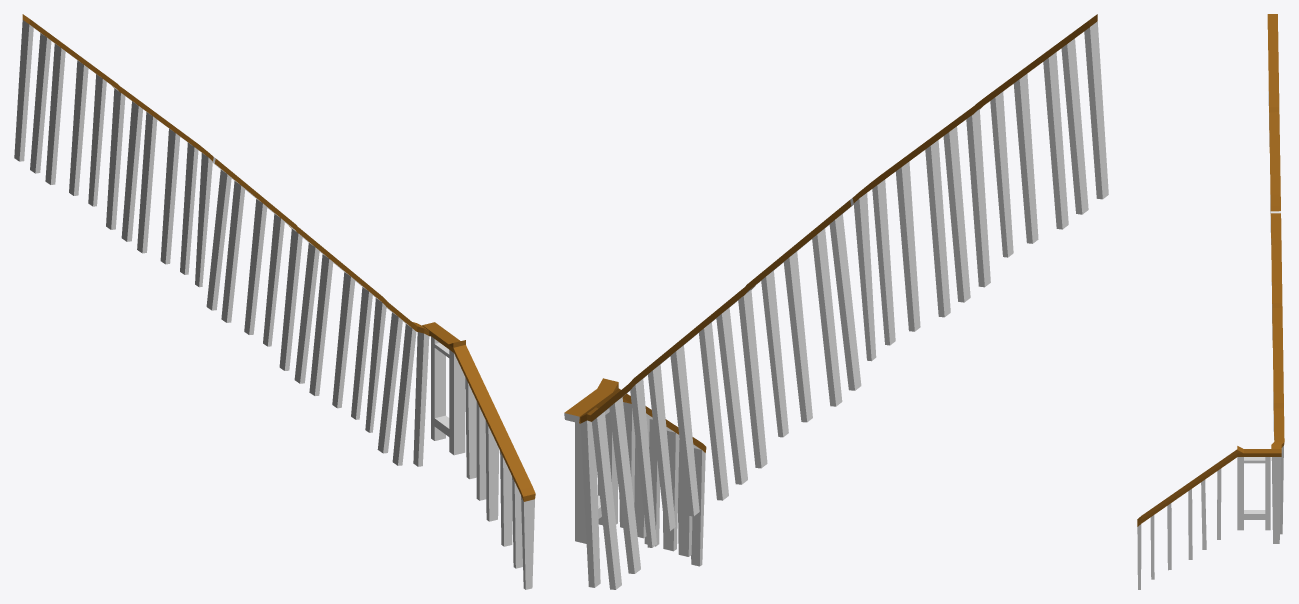
The model's file is barrière escalier_2.fbx.
3 renders of one model, left to right at view 1: azimuth 30°, elevation 25°; view 2: azimuth 150°, elevation 25°; view 3: azimuth 270°, elevation 25°, orthographic. The views are drawn at different scales.
Parts seen in each view (by area): view 1: Barriere_Escalier_2.001; view 2: Barriere_Escalier_2.001; view 3: Barriere_Escalier_2.001.
Part boxes in pixels (<box>): Barriere_Escalier_2.001: <box>14,14,535,589</box>; Barriere_Escalier_2.001: <box>564,14,1108,589</box>; Barriere_Escalier_2.001: <box>1137,14,1284,589</box>.
Size of the model in its own units: 9.09 by 12.34 by 3.81.
